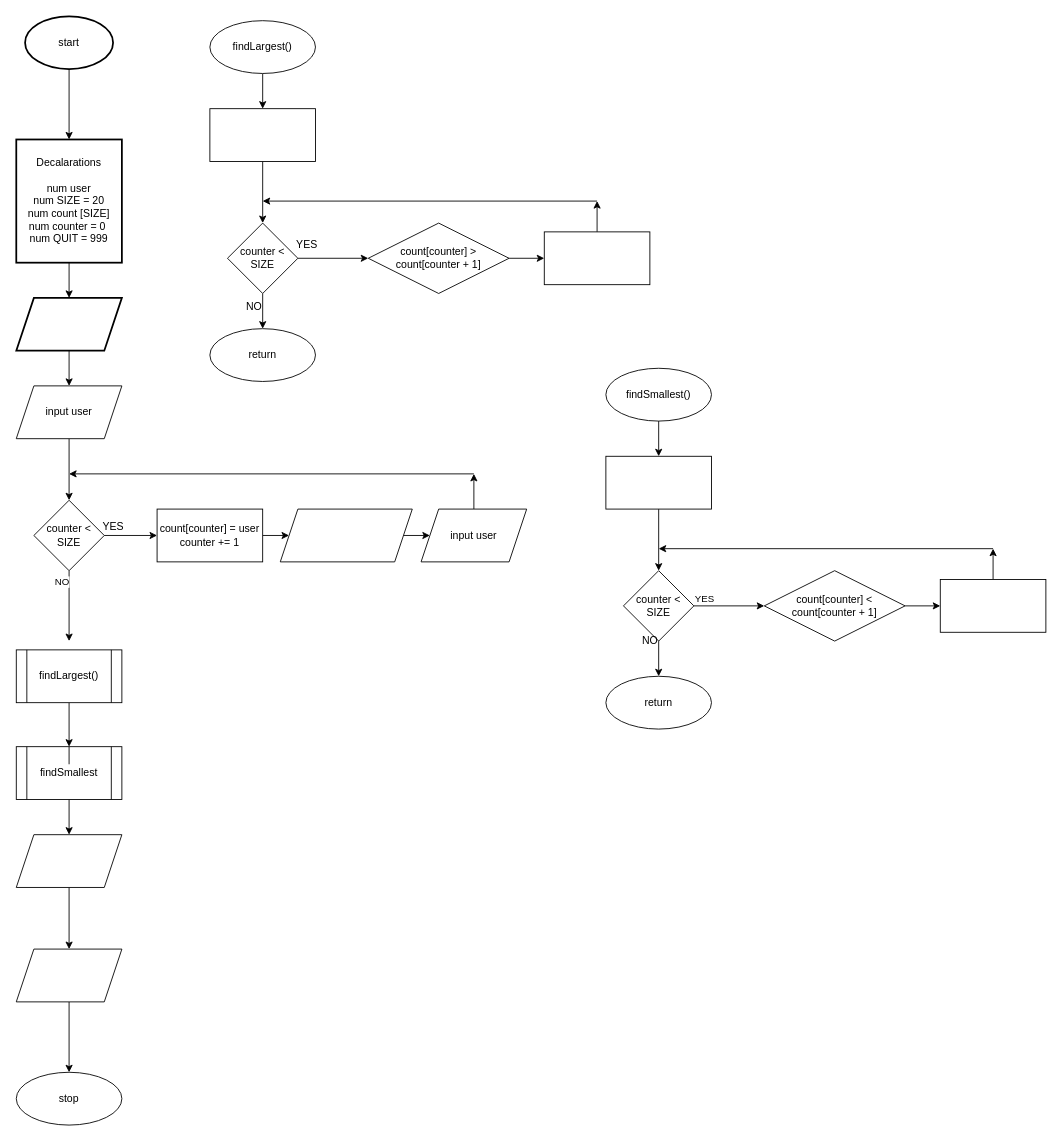
Some shapes in this 1061 by 1140 pixel diagram are drawn without their labels. The centre of each missing label's shape, as x and y in pixels:
counter = 0 num largest: (x=262, y=134)
counter = 0 num smallest: (x=658, y=482)
largest = count[counter] counter += 1: (x=596, y=258)
output "End of Program": (x=68, y=975)
output "Enter a number ": (x=68, y=324)
output "Enter another number": (x=345, y=535)
output count, largest, smallest: (x=68, y=860)
smallest = count[counter] counter += 1: (x=992, y=605)
